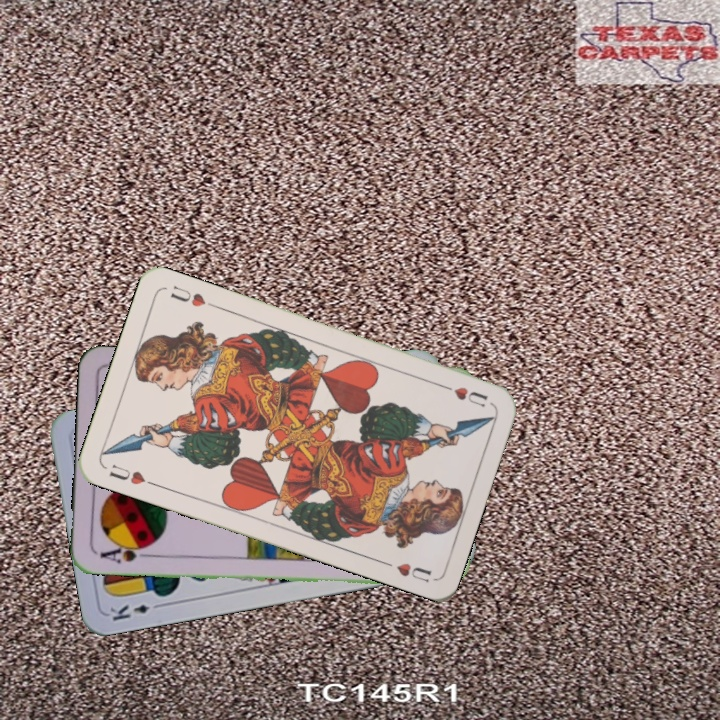EK: (106, 599, 165, 624)
HU: (436, 380, 490, 410), (104, 460, 159, 489)
SA: (95, 540, 154, 566)
